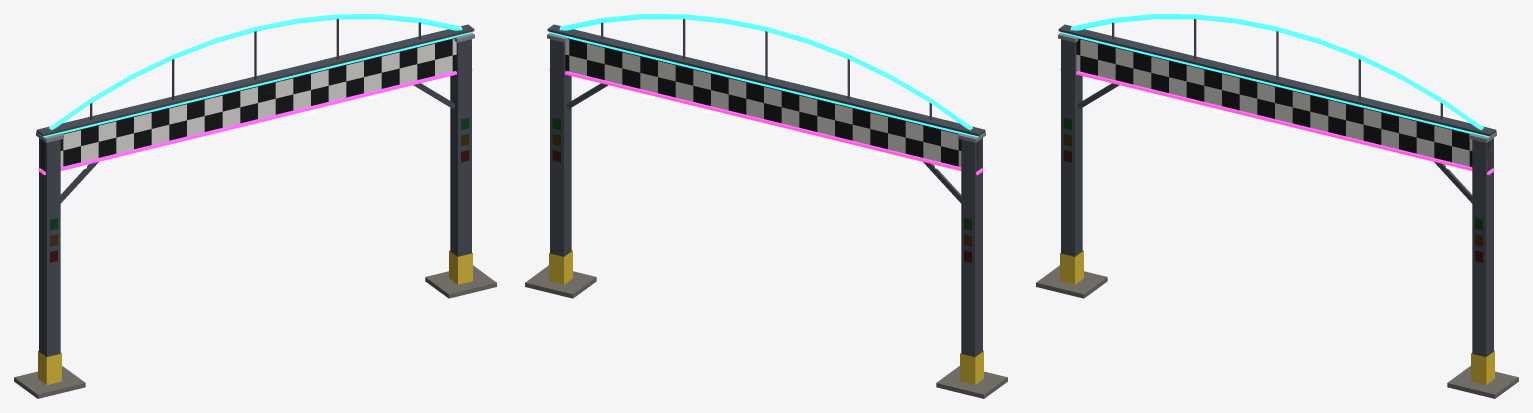
The model's file is finish_line_banner.glb.
The picture shows the model from 3 angles, left to right: view 1: azimuth 30°, elevation 25°; view 2: azimuth 150°, elevation 25°; view 3: azimuth 330°, elevation 25°; orthographic projection.
Visible parts, largest first — view 1: Body; view 2: Body; view 3: Body.
Boxes of the visible parts, left/top/right/bottom form: Body: left=14, top=14, right=496, bottom=398; Body: left=525, top=14, right=1007, bottom=398; Body: left=1036, top=14, right=1518, bottom=398.
Bounding box in the file's own units: 13.4 × 8.58 × 1.2.
